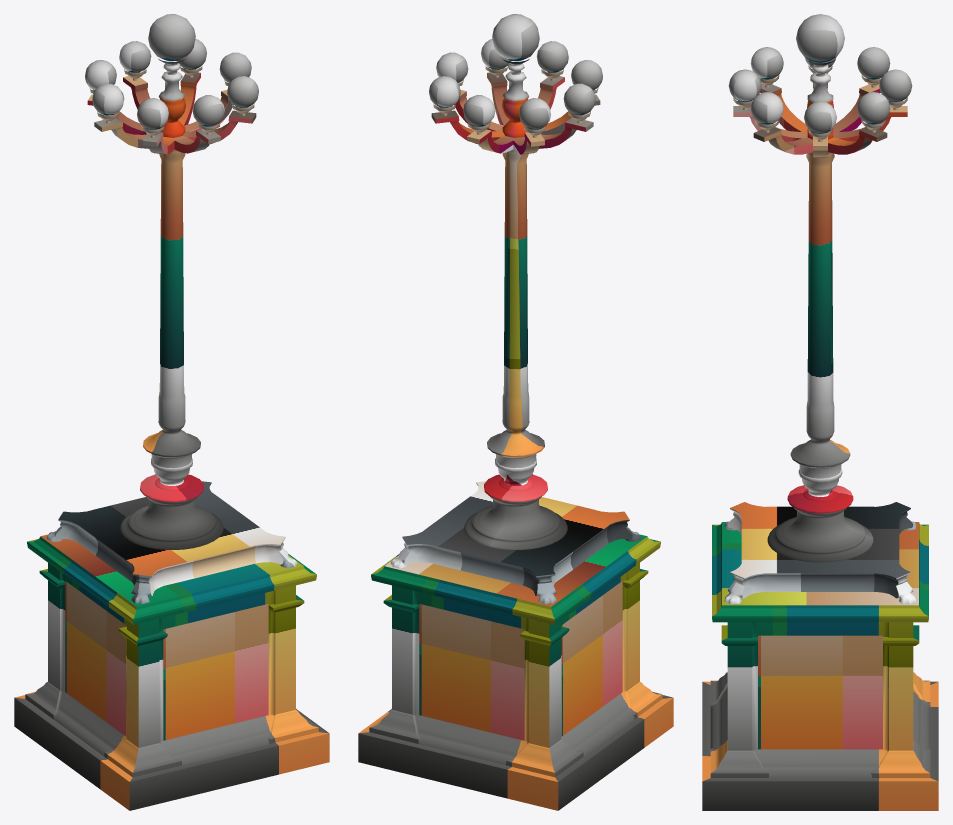
Rendered from Lamp Post.glb.
3 views of the same model, side by side, from view 1: azimuth 30°, elevation 25°; view 2: azimuth 150°, elevation 25°; view 3: azimuth 270°, elevation 25° (orthographic). The views are drawn at different scales.
Parts seen in each view (by area): view 1: LampPost_Base, LampPost_Metal, LampPost_Bulbs; view 2: LampPost_Base, LampPost_Metal, LampPost_Bulbs; view 3: LampPost_Base, LampPost_Metal, LampPost_Bulbs.
Part boxes in pixels (<box>): LampPost_Base: <box>14,534,329,810</box>; LampPost_Metal: <box>46,57,297,603</box>; LampPost_Bulbs: <box>85,14,258,129</box>; LampPost_Base: <box>358,534,673,810</box>; LampPost_Metal: <box>390,57,641,603</box>; LampPost_Bulbs: <box>429,14,602,129</box>; LampPost_Base: <box>702,522,938,810</box>; LampPost_Metal: <box>724,60,916,604</box>; LampPost_Bulbs: <box>728,14,912,133</box>.
Size of the model in its own units: 16.42 by 57.18 by 16.42.
1 material, 1 textured.
